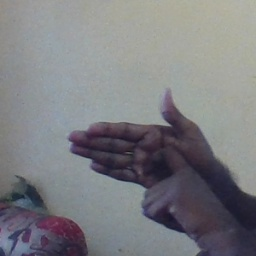R: (66, 88, 216, 229)
